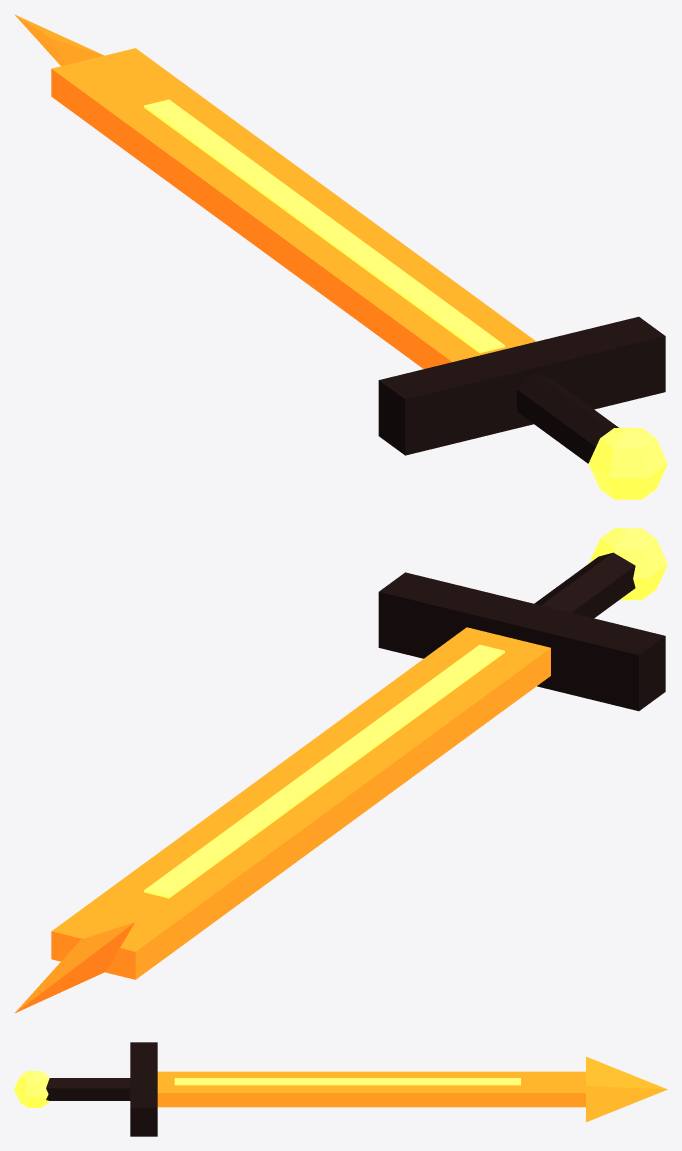
File: fire_blade.glb
The picture shows the model from 3 angles, top to bottom: view 1: azimuth 30°, elevation 25°; view 2: azimuth 150°, elevation 25°; view 3: azimuth 270°, elevation 25°; orthographic projection. The views are drawn at different scales.
Parts seen in each view (by area): view 1: FireBlade; view 2: FireBlade; view 3: FireBlade.
Part boxes in pixels (x1=…): FireBlade: x1=14, y1=14, x2=667, y2=499; FireBlade: x1=14, y1=528, x2=667, y2=1013; FireBlade: x1=14, y1=1042, x2=667, y2=1136.
Bounding box in the file's own units: 0.34 × 0.1089 × 1.44.
